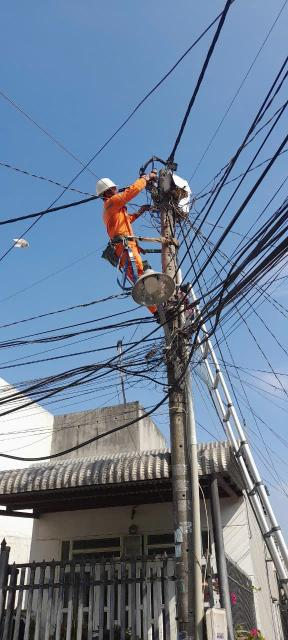gloves: (131, 202, 152, 218), (139, 171, 159, 183)
harness: (98, 229, 150, 246)
helmet: (91, 175, 126, 205)
